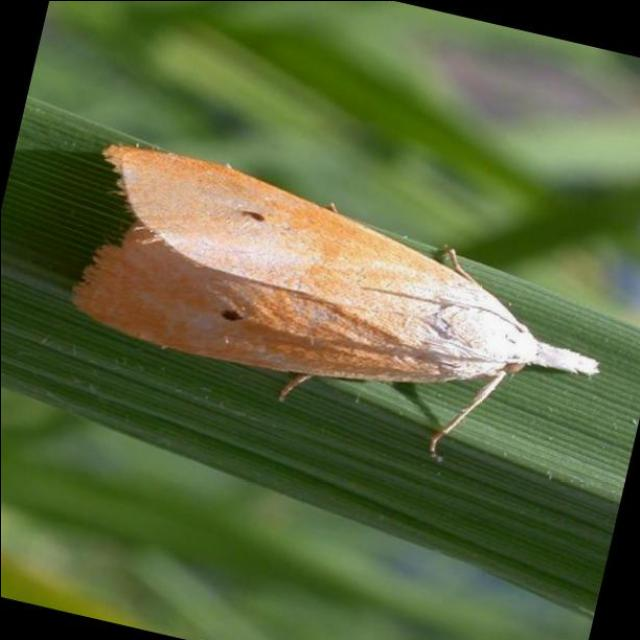stem borer: (72, 144, 597, 455)
